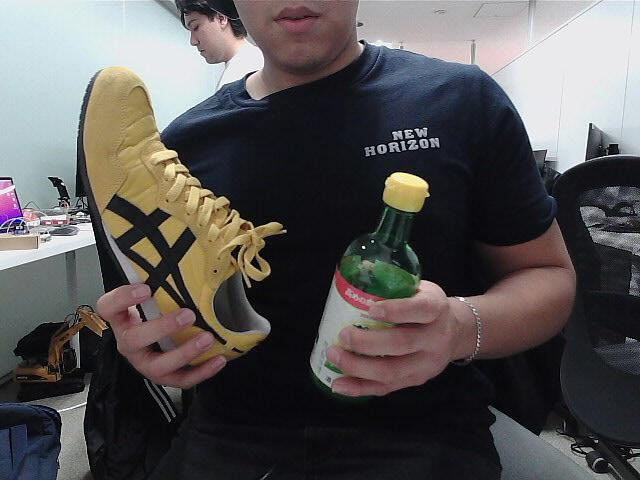Lemon_sapporo: (303, 170, 443, 398)
Shoes: (78, 62, 279, 366)
